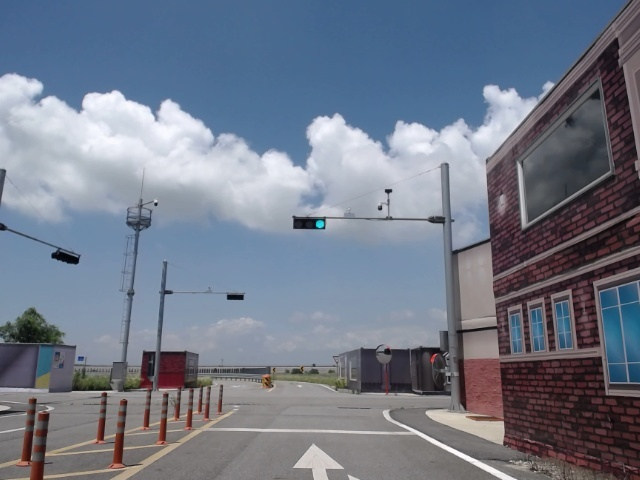green_3: (293, 218, 325, 229)
